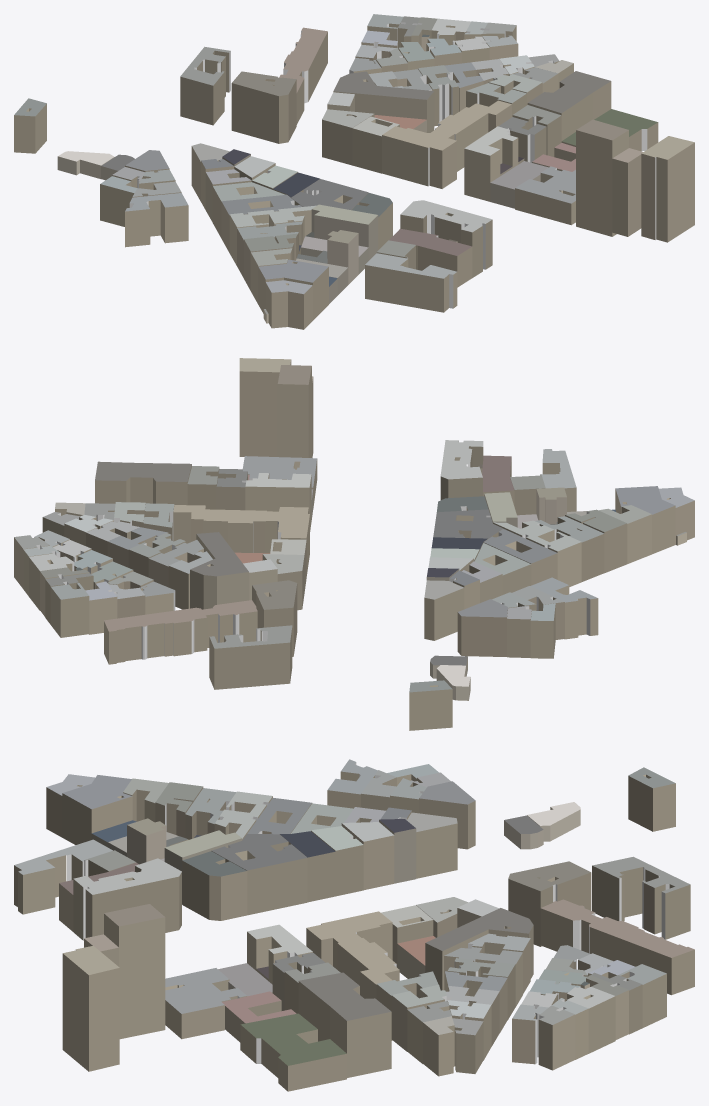
3 views of the same model, one above another, from view 1: azimuth 30°, elevation 25°; view 2: azimuth 150°, elevation 25°; view 3: azimuth 270°, elevation 25° (orthographic). The views are drawn at different scales.
Visible parts, largest first — view 1: tuile; view 2: tuile; view 3: tuile.
Part boxes in pixels (x1,y1,x2,y2): tuile: (14,14,694,329); tuile: (14,358,694,730); tuile: (14,759,694,1091).
Bounding box in the file's own units: 282 × 52.45 × 281.
